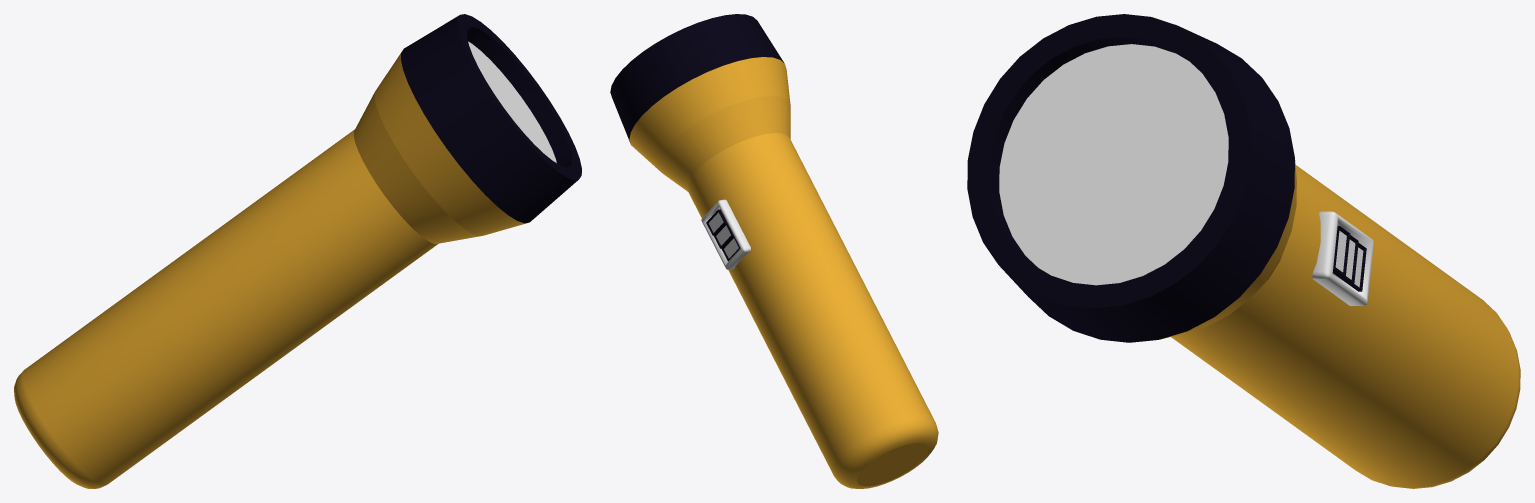
File: torch.fbx
3 renders of one model, left to right at view 1: azimuth 30°, elevation 25°; view 2: azimuth 150°, elevation 25°; view 3: azimuth 270°, elevation 25°, orthographic. The views are drawn at different scales.
Visible parts, largest first — view 1: torch; view 2: torch; view 3: torch.
Part boxes in pixels (box(x1,y1,x2,y2)): torch: box(14, 14, 581, 488); torch: box(610, 14, 938, 488); torch: box(967, 14, 1520, 488).
Size of the model in its own units: 57.03 by 52.85 by 39.43.
